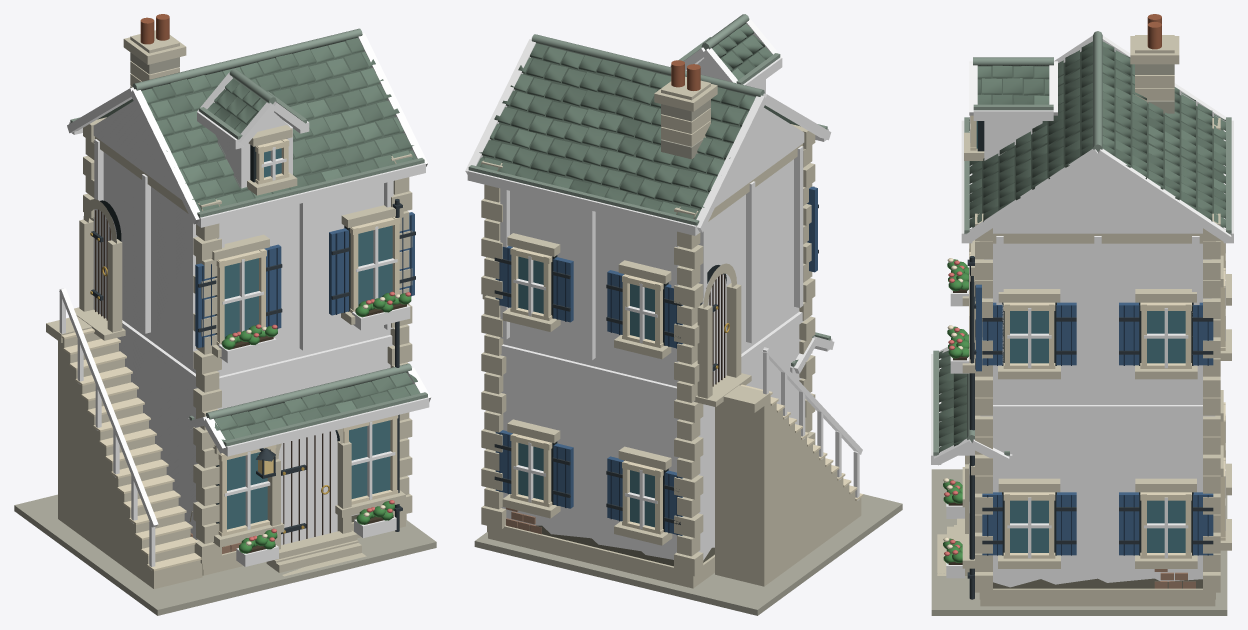
Rendered from apothecary.glb.
3 views of the same model, side by side, from view 1: azimuth 30°, elevation 25°; view 2: azimuth 150°, elevation 25°; view 3: azimuth 270°, elevation 25° (orthographic). The views are drawn at different scales.
Visible parts, largest first — view 1: SourceMesh_00005, SourceMesh_00097, SourceMesh_00000, SourceMesh_00173, SourceMesh_00136, SourceMesh_00088, SourceMesh_00084, SourceMesh_00091, SourceMesh_00089, SourceMesh_00215, SourceMesh_00128, SourceMesh_00205 (+61 smaller); view 2: SourceMesh_00005, SourceMesh_00097, SourceMesh_00617, SourceMesh_00000, SourceMesh_00085, SourceMesh_00091, SourceMesh_00084, SourceMesh_00086, SourceMesh_00006, SourceMesh_00092, SourceMesh_00166, SourceMesh_00582 (+51 smaller); view 3: SourceMesh_00005, SourceMesh_00097, SourceMesh_00094, SourceMesh_00000, SourceMesh_00166, SourceMesh_00006, SourceMesh_00085, SourceMesh_00084, SourceMesh_00136, SourceMesh_00007, SourceMesh_00088, SourceMesh_00001 (+52 smaller).
Part boxes in pixels (box(x1,y1,x2,y2)): SourceMesh_00005: box(103, 152, 390, 539); SourceMesh_00097: box(141, 37, 416, 211); SourceMesh_00000: box(14, 494, 436, 615); SourceMesh_00173: box(278, 430, 337, 544); SourceMesh_00136: box(194, 372, 420, 442); SourceMesh_00088: box(148, 41, 413, 202); SourceMesh_00084: box(122, 320, 393, 391); SourceMesh_00091: box(93, 101, 181, 199); SourceMesh_00089: box(196, 163, 425, 227); SourceMesh_00215: box(349, 420, 390, 498); SourceMesh_00128: box(223, 397, 429, 456); SourceMesh_00205: box(227, 452, 267, 529); SourceMesh_00005: box(501, 159, 801, 560); SourceMesh_00097: box(476, 43, 755, 219); SourceMesh_00617: box(715, 396, 770, 586); SourceMesh_00000: box(474, 494, 902, 615); SourceMesh_00085: box(480, 46, 748, 210); SourceMesh_00091: box(715, 108, 804, 207); SourceMesh_00084: box(500, 311, 808, 401); SourceMesh_00086: box(467, 170, 700, 235); SourceMesh_00006: box(487, 525, 714, 582); SourceMesh_00092: box(696, 95, 766, 232); SourceMesh_00166: box(712, 23, 772, 79); SourceMesh_00582: box(794, 146, 803, 307); SourceMesh_00005: box(984, 243, 1211, 587); SourceMesh_00097: box(969, 41, 1225, 229); SourceMesh_00094: box(993, 159, 1202, 233); SourceMesh_00000: box(931, 469, 1227, 615); SourceMesh_00166: box(977, 65, 1049, 104); SourceMesh_00006: box(979, 588, 1215, 599); SourceMesh_00085: box(1102, 51, 1223, 227); SourceMesh_00084: box(980, 405, 1214, 416); SourceMesh_00136: box(939, 350, 966, 452); SourceMesh_00007: box(980, 233, 1215, 243); SourceMesh_00088: box(972, 51, 1092, 227); SourceMesh_00001: box(980, 599, 1215, 606).
Size of the model in its own units: 5.55 by 9.1 by 4.92.
